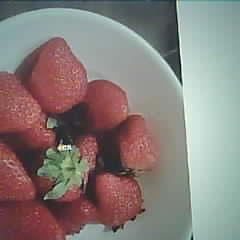straw-ripe: (30, 37, 88, 113), (0, 71, 41, 131)
